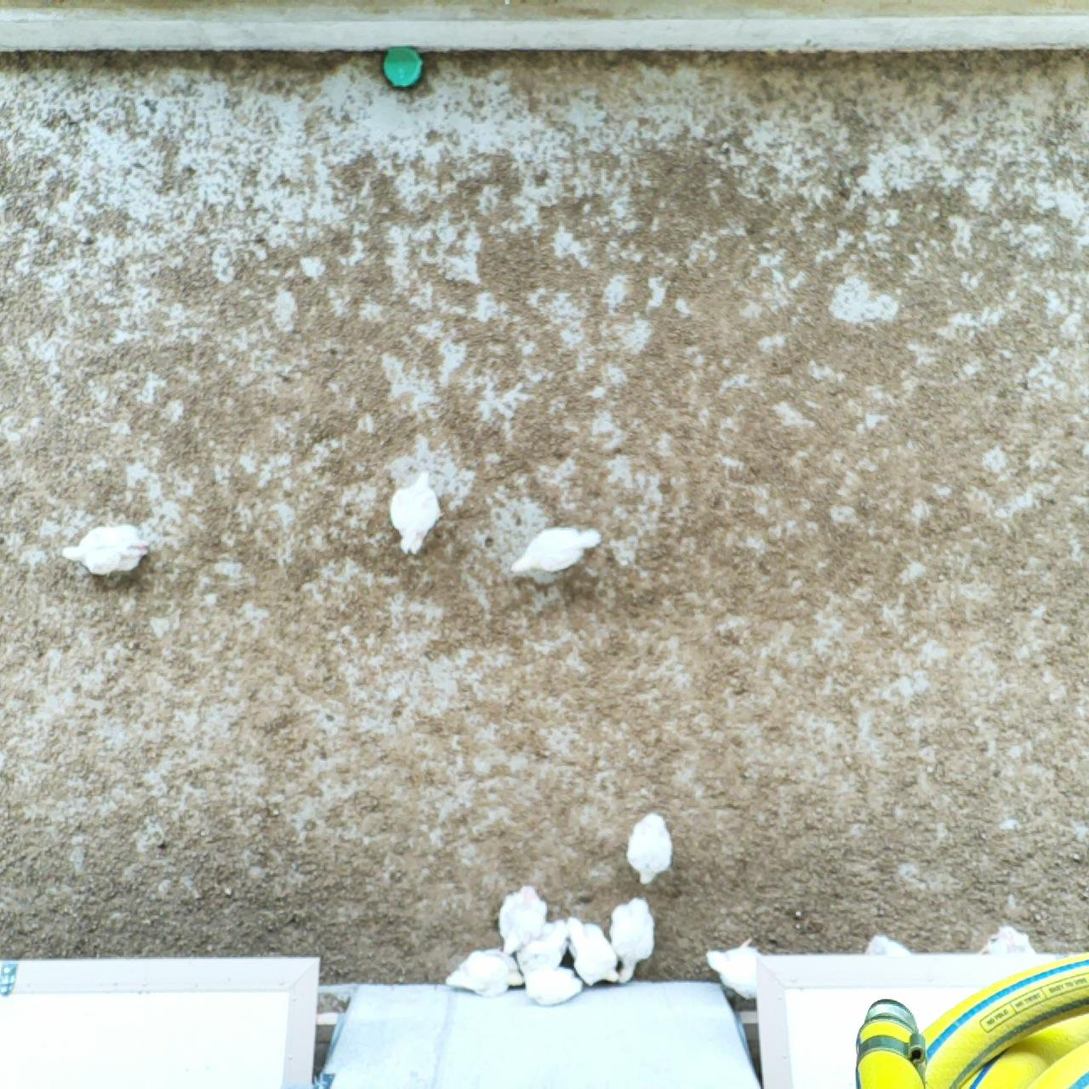chicken: (59, 520, 154, 582), (505, 524, 606, 581), (387, 468, 446, 561), (441, 944, 530, 1002), (607, 893, 659, 989), (563, 912, 624, 989), (493, 882, 550, 961), (703, 934, 769, 1002), (623, 809, 677, 887), (516, 957, 583, 1009), (516, 916, 569, 976), (974, 919, 1039, 958), (860, 930, 912, 961)
